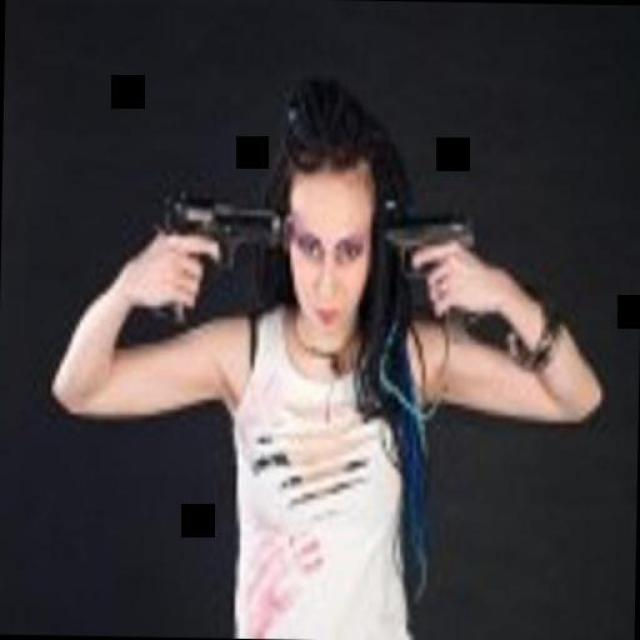gun: (139, 191, 290, 335), (368, 205, 477, 321)
